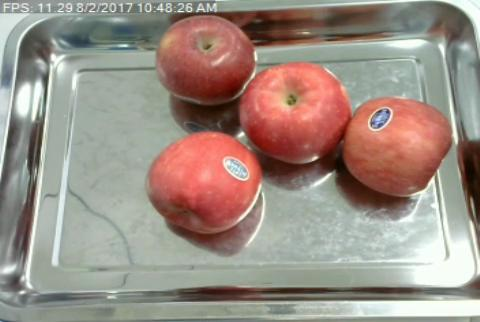apple: (145, 131, 263, 232), (241, 62, 350, 164), (347, 98, 453, 197), (155, 15, 257, 102)
